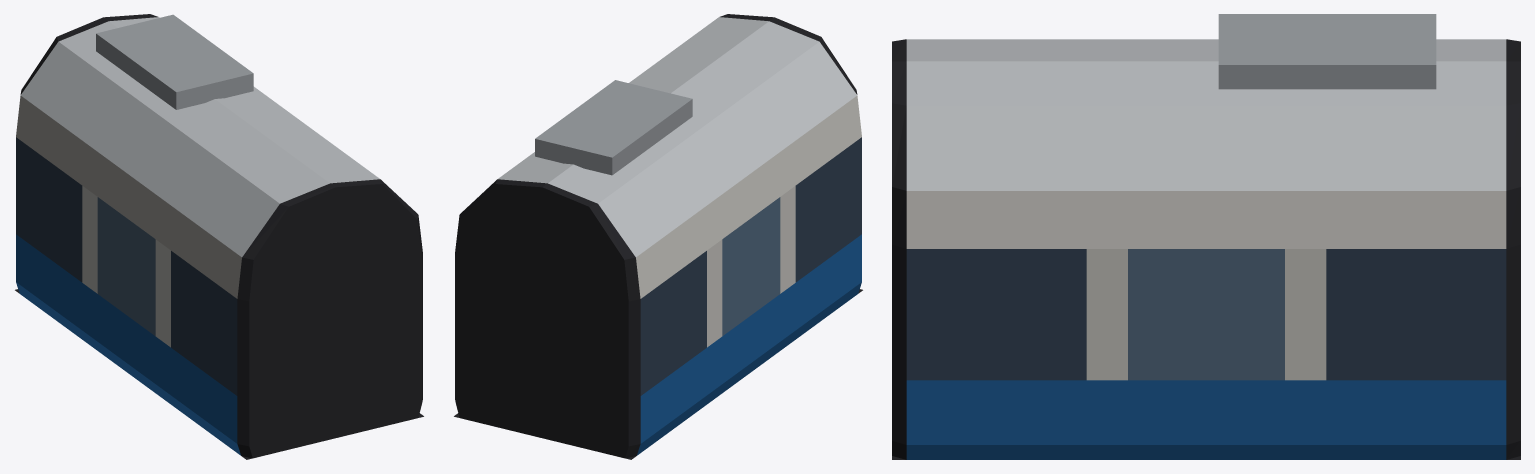
File: cobra_zwischen.glb
3 views of the same model, side by side, from view 1: azimuth 30°, elevation 25°; view 2: azimuth 150°, elevation 25°; view 3: azimuth 270°, elevation 25° (orthographic). The views are drawn at different scales.
Parts seen in each view (by area): view 1: body; view 2: body; view 3: body.
Part boxes in pixels (bbox=[...]): body: bbox=[15, 14, 423, 459]; body: bbox=[454, 14, 862, 459]; body: bbox=[892, 14, 1520, 459].
Size of the model in its own units: 2.4 by 3.3 by 5.2.
